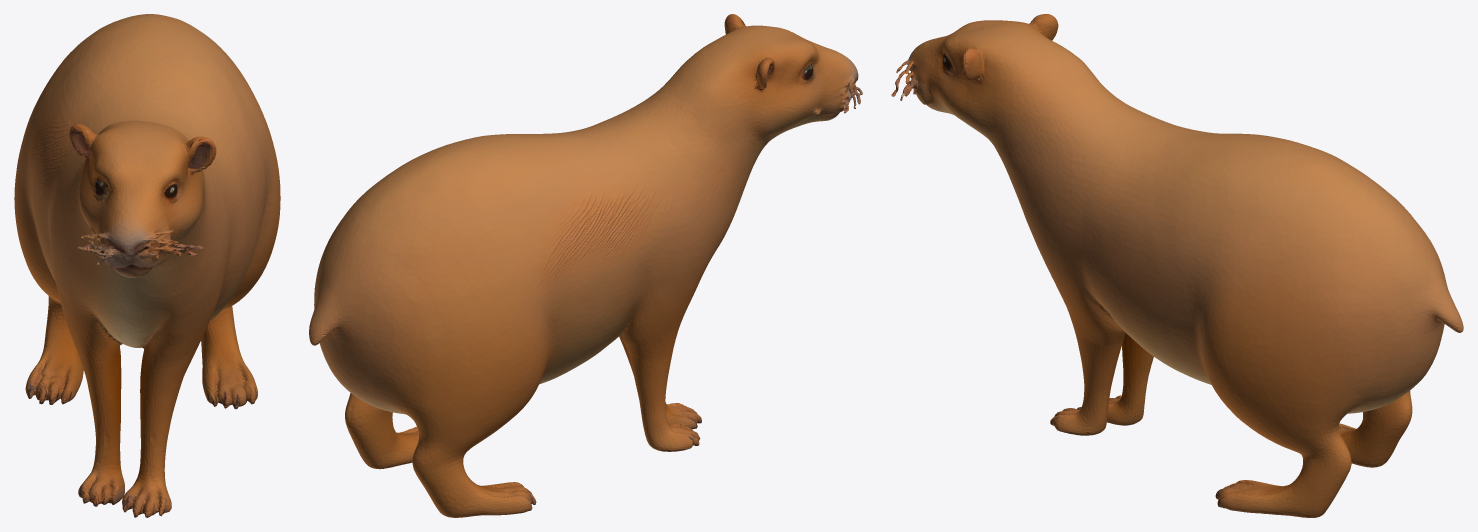
Rendered from capybara.glb.
The picture shows the model from 3 angles, left to right: view 1: azimuth 30°, elevation 25°; view 2: azimuth 150°, elevation 25°; view 3: azimuth 270°, elevation 25°; orthographic projection. The views are drawn at different scales.
Parts seen in each view (by area): view 1: textured_mesh.obj; view 2: textured_mesh.obj; view 3: textured_mesh.obj.
Part boxes in pixels (x1,y1,x2,y2): textured_mesh.obj: (14, 14, 280, 517); textured_mesh.obj: (309, 14, 862, 517); textured_mesh.obj: (891, 14, 1463, 517).
Bounding box in the file's own units: 1.36 × 1.42 × 1.96.
Materials: 1 (1 with a texture image).
